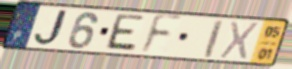6: (67, 10, 100, 50)
E: (102, 13, 147, 54)
F: (137, 13, 184, 57)
I: (203, 18, 225, 59)
J: (32, 8, 73, 48)
X: (217, 20, 262, 62)
